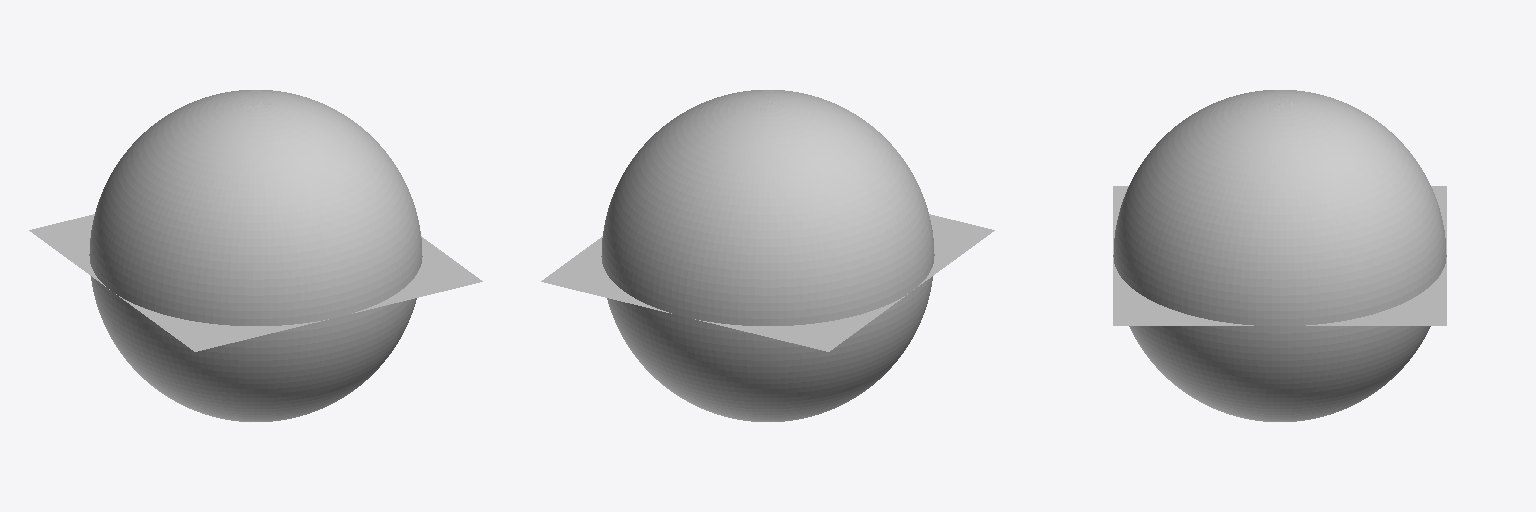
File: metalcube.obj
The picture shows the model from 3 angles: view 1: azimuth 30°, elevation 25°; view 2: azimuth 150°, elevation 25°; view 3: azimuth 270°, elevation 25°; orthographic projection.
Parts seen in each view (by area): view 1: Sphere, Plane; view 2: Sphere, Plane; view 3: Sphere, Plane.
Part boxes in pixels (x1,y1,x2,y2): Sphere: (89,90,422,421); Plane: (29,214,482,351); Sphere: (601,90,934,421); Plane: (541,214,994,351); Sphere: (1113,90,1446,421); Plane: (1113,186,1446,325).
Size of the model in its own units: 0.5 by 0.5 by 0.5.